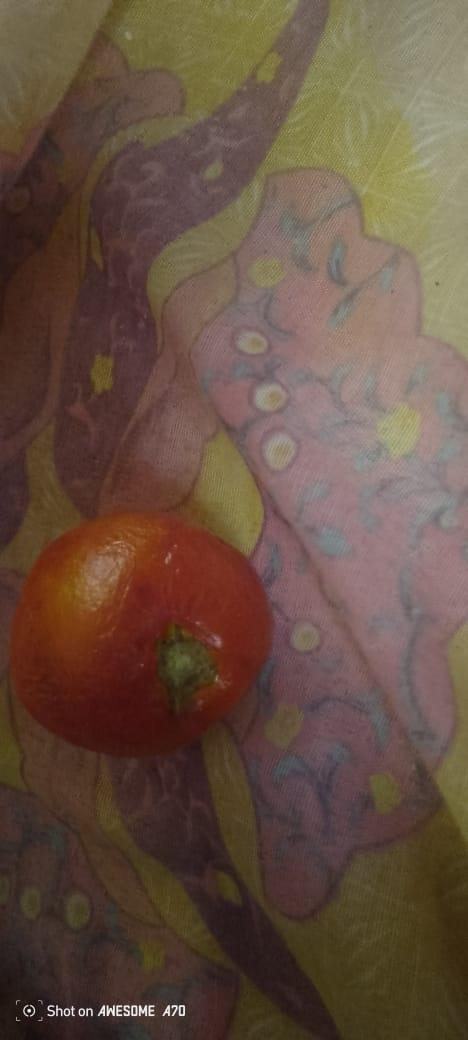non-mango: (13, 511, 273, 750)
